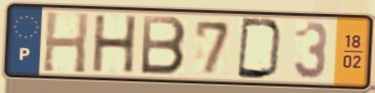3: (292, 20, 329, 83)
7: (194, 19, 233, 76)
B: (138, 14, 189, 78)
D: (234, 16, 286, 82)
H: (40, 9, 92, 76), (91, 14, 140, 75)
